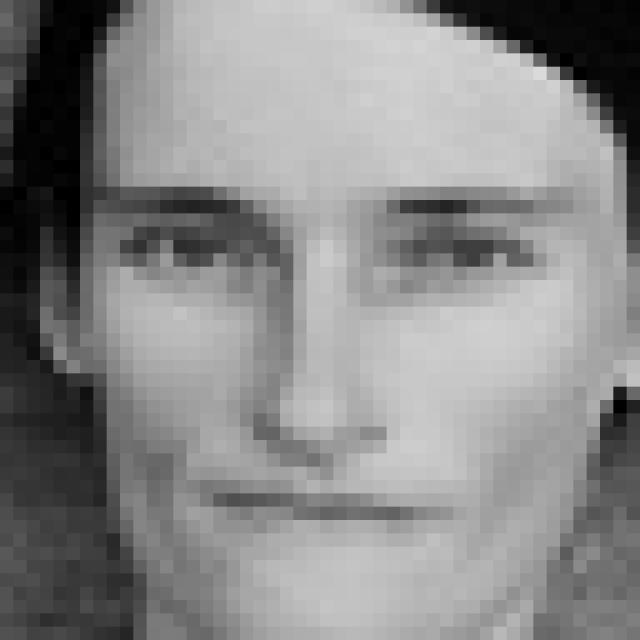neutral: (98, 173, 587, 568)
